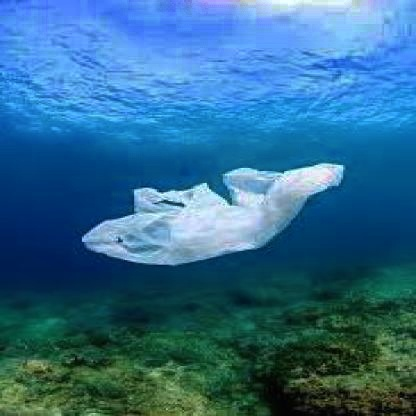pbag: (80, 162, 346, 268)
